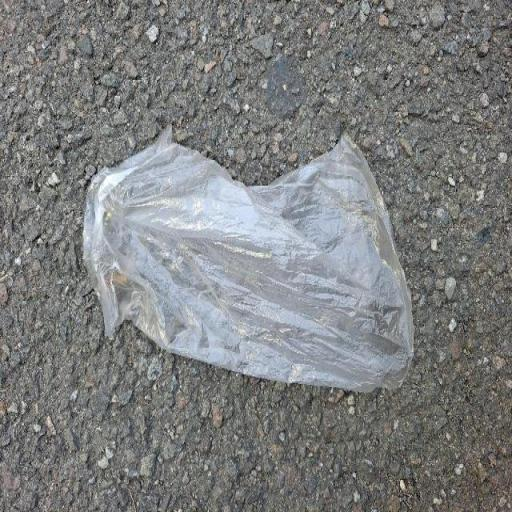plastic-bag: (80, 120, 414, 400)
